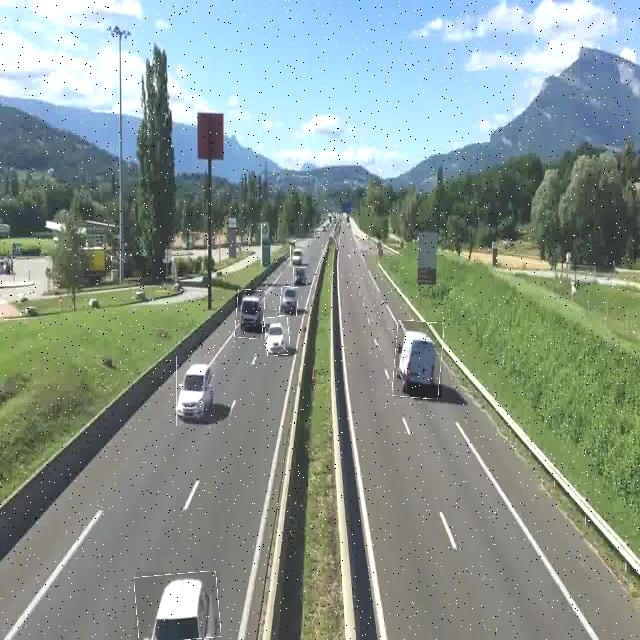Car: (135, 572, 220, 640), (394, 321, 442, 398), (176, 356, 215, 426), (265, 317, 290, 355), (280, 287, 297, 316), (290, 246, 305, 266), (293, 267, 306, 286)
Truck: (235, 289, 264, 339)
